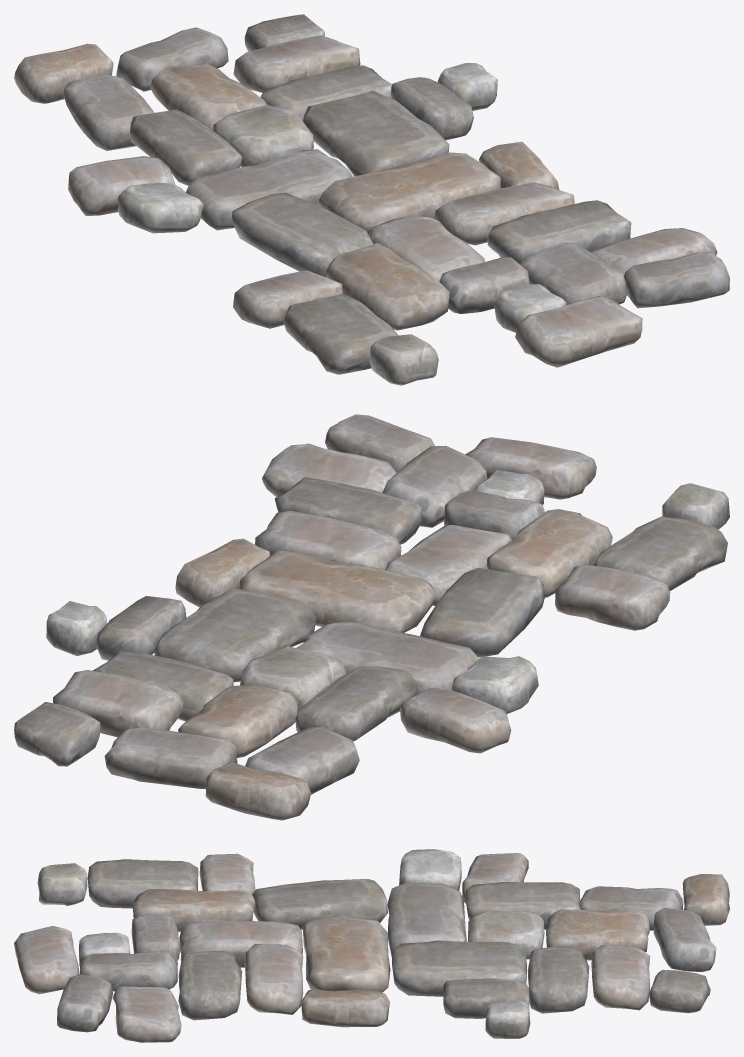
The picture shows the model from 3 angles, top to bottom: view 1: azimuth 30°, elevation 25°; view 2: azimuth 150°, elevation 25°; view 3: azimuth 270°, elevation 25°; orthographic projection. The views are drawn at different scales.
Parts seen in each view (by area): view 1: SM_Paving_08_LOD0; view 2: SM_Paving_08_LOD0; view 3: SM_Paving_08_LOD0.
Part boxes in pixels (x1=…): SM_Paving_08_LOD0: x1=14, y1=14, x2=729, y2=385; SM_Paving_08_LOD0: x1=14, y1=414, x2=729, y2=820; SM_Paving_08_LOD0: x1=14, y1=849, x2=729, y2=1042.
Size of the model in its own units: 2.36 by 0.2323 by 4.06.
Materials: 1 (1 with a texture image).
